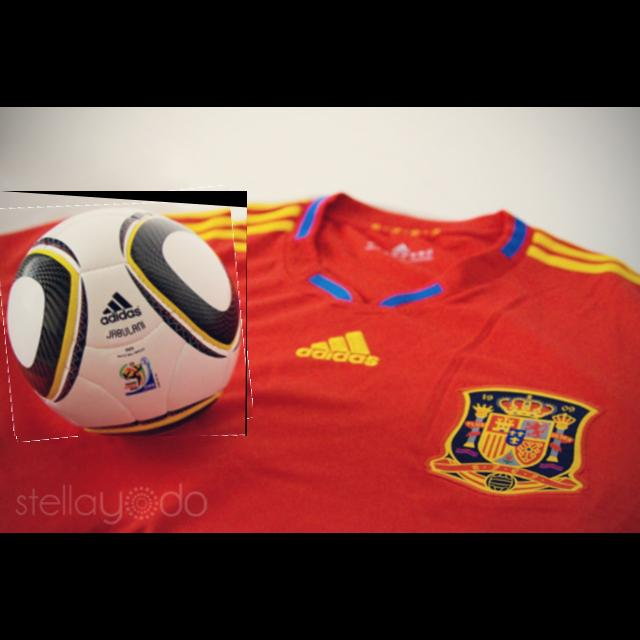Football: (0, 191, 247, 436)
